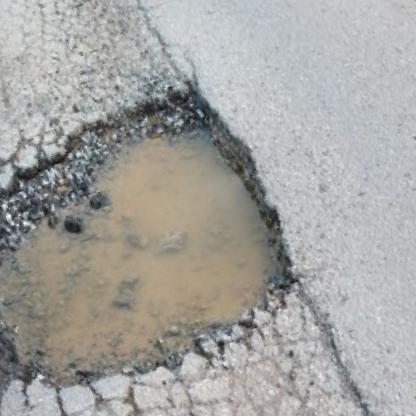pothole: (0, 62, 313, 413)
